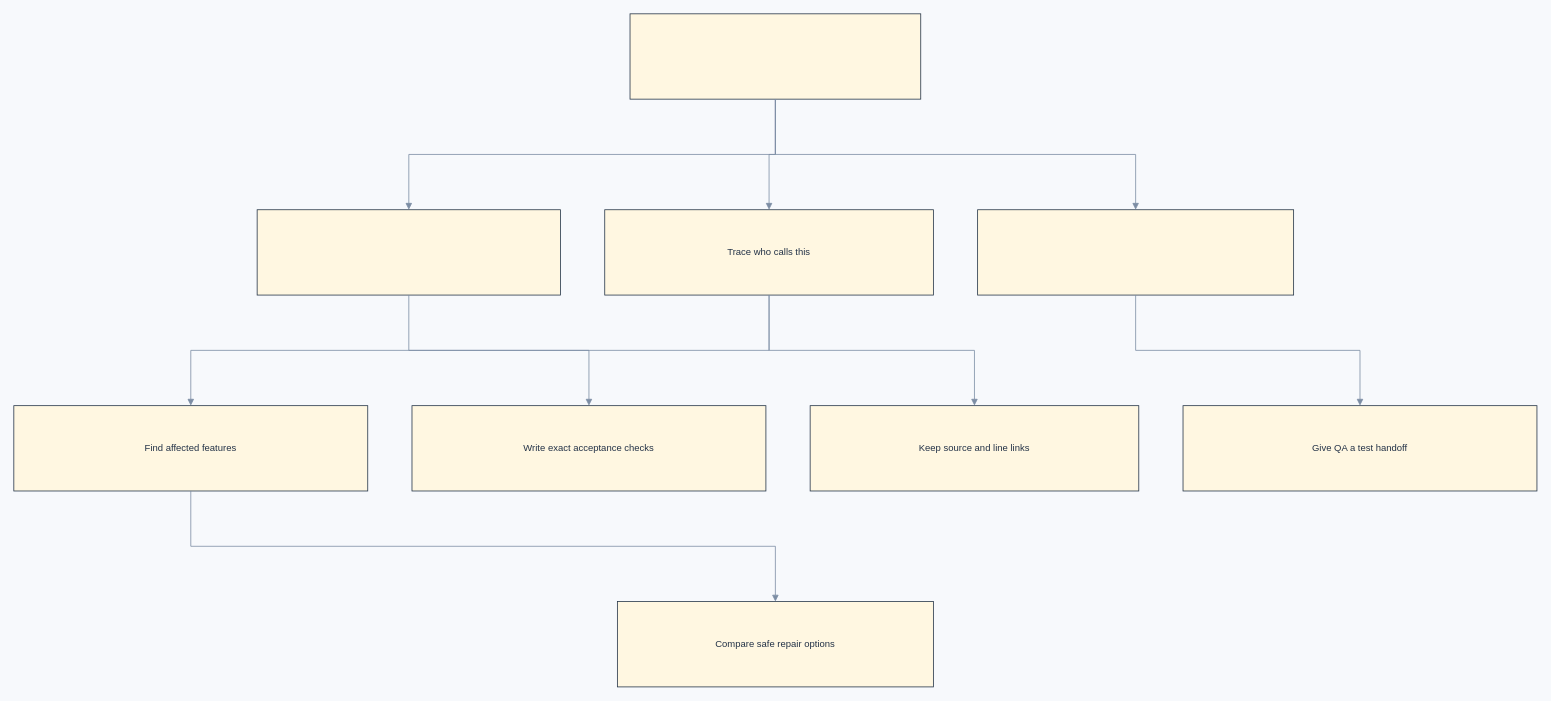
Some shapes in this 1551 by 701 pixel diagram are drawn without their labels. Each missing label, with the centre of its shape:
Check related tests: the point at 1135,252
Make it repeatable: the point at 408,252
Why does this bug happen?: the point at 775,56
